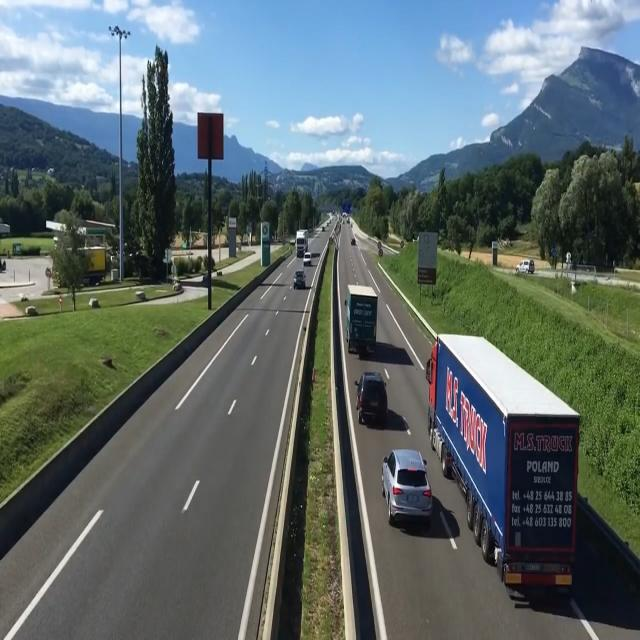car: (382, 440, 432, 531), (355, 371, 391, 432), (291, 267, 307, 290)
truck: (430, 312, 580, 596), (341, 282, 382, 358), (294, 226, 306, 257)
